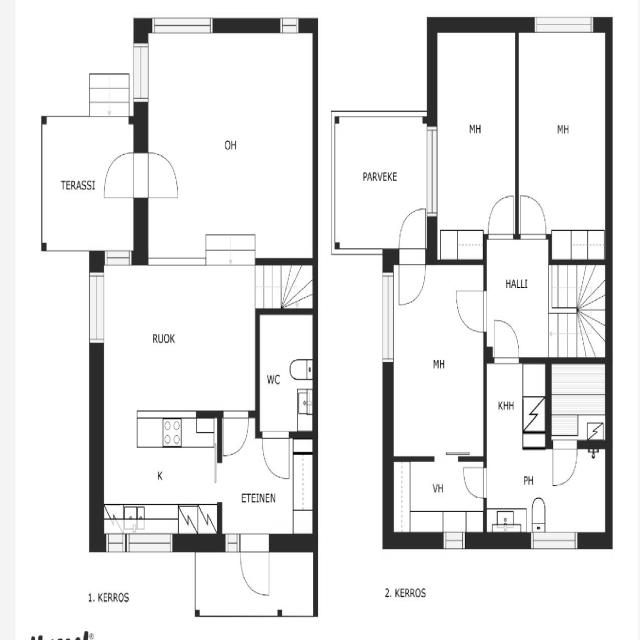door: (392, 262, 486, 458), (389, 458, 484, 532), (393, 201, 429, 311), (139, 144, 187, 206), (237, 531, 274, 602), (98, 148, 140, 204), (451, 284, 491, 336), (548, 434, 580, 490), (517, 188, 549, 242), (490, 312, 522, 366), (259, 430, 291, 483), (486, 188, 516, 240), (221, 409, 251, 460), (459, 459, 490, 503)
window: (144, 240, 267, 272), (84, 260, 109, 353), (377, 262, 398, 372), (528, 8, 598, 37), (422, 118, 441, 224), (148, 9, 219, 37), (130, 32, 152, 113), (123, 528, 180, 556), (528, 528, 581, 551), (99, 243, 136, 270), (276, 12, 303, 37), (439, 528, 468, 551)
zone: (142, 25, 318, 264), (92, 258, 258, 414), (516, 22, 609, 246), (432, 24, 518, 246), (390, 260, 486, 458), (96, 411, 220, 546), (488, 449, 609, 543), (218, 432, 315, 548), (386, 453, 487, 547), (484, 236, 550, 360), (258, 310, 314, 436), (486, 359, 549, 456), (546, 361, 610, 447)
